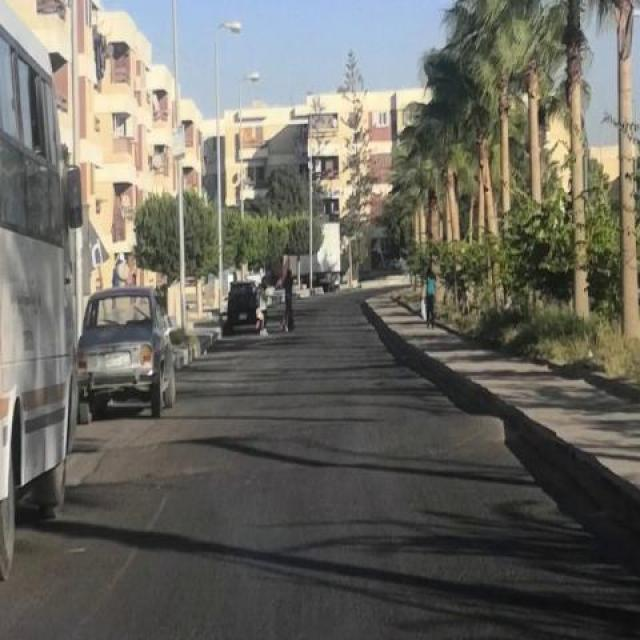Unmarked Bump: (72, 413, 516, 488)
